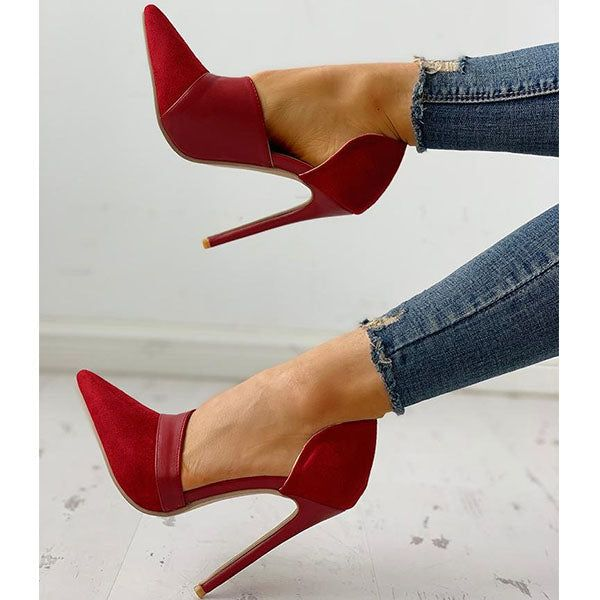gamuza: (76, 3, 406, 512)
